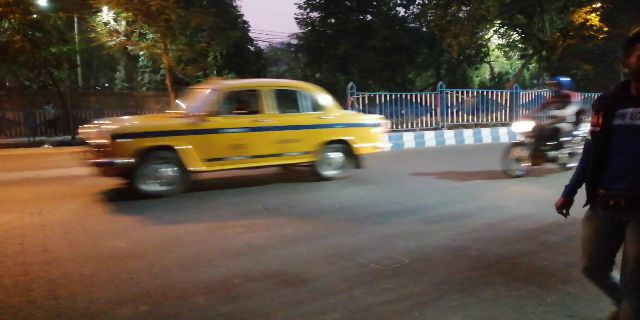Car: (81, 79, 391, 197)
